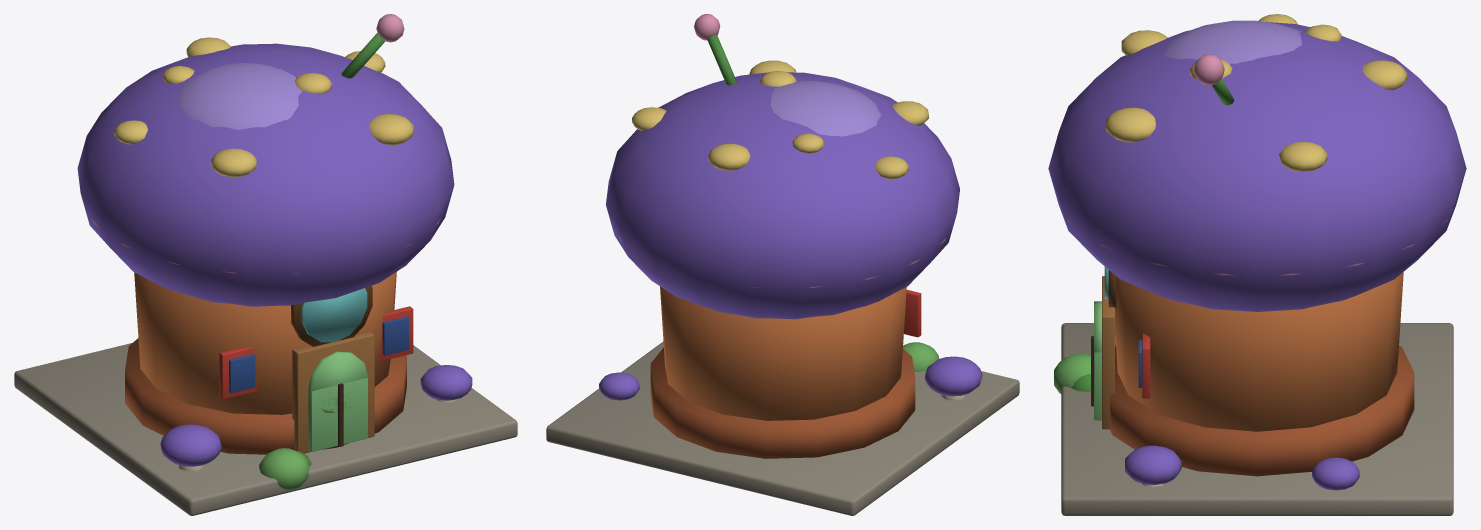
Rendered from k_magic_lab.glb.
The picture shows the model from 3 angles, left to right: view 1: azimuth 30°, elevation 25°; view 2: azimuth 150°, elevation 25°; view 3: azimuth 270°, elevation 25°; orthographic projection. The views are drawn at different scales.
Parts seen in each view (by area): view 1: SK_k_magic_lab; view 2: SK_k_magic_lab; view 3: SK_k_magic_lab.
Boxes of the visible parts, x1,y1,x2,y2 form: SK_k_magic_lab: (14, 14, 517, 515); SK_k_magic_lab: (546, 14, 1019, 515); SK_k_magic_lab: (1048, 14, 1466, 515).
Bounding box in the file's own units: 3.2 × 3.66 × 3.2.
